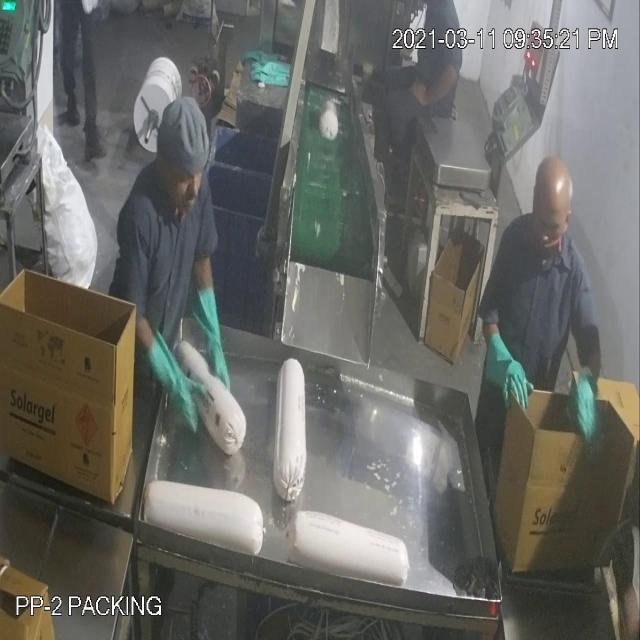Gloves: (45, 60, 590, 412)
